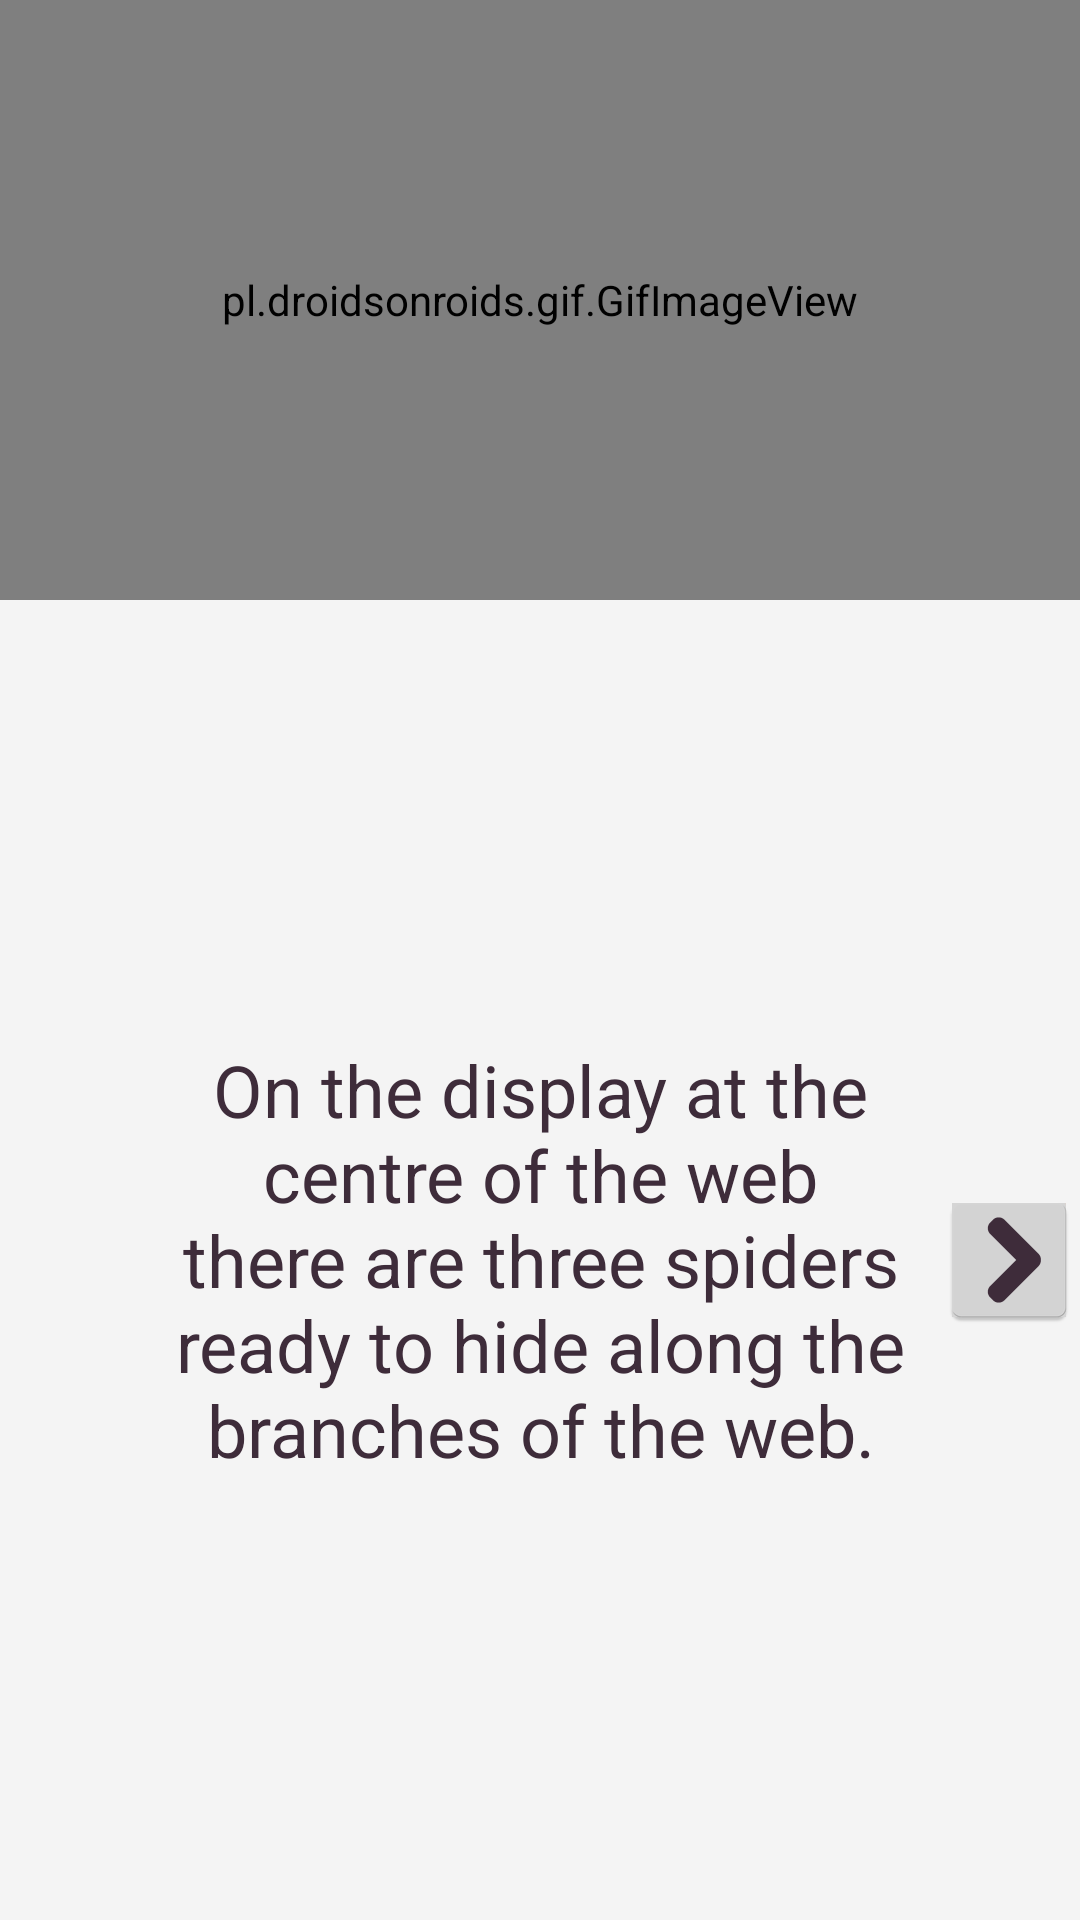

Icon click points for this 1080 x 1920 phone screenshot, format (x=x, y=y):
avanti: (x=1009, y=1262)
